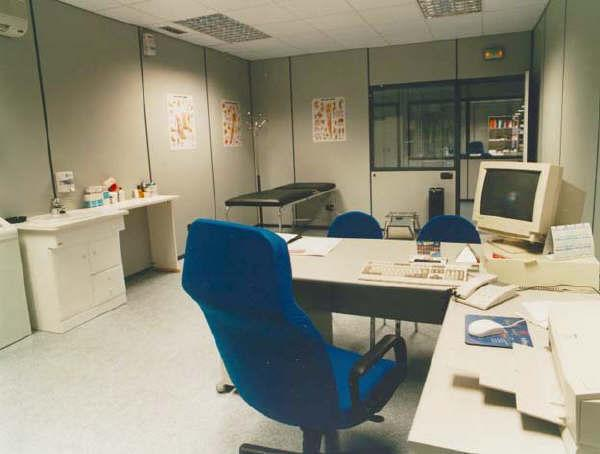Bote de Basura: (423, 188, 450, 223)
Cama: (218, 156, 344, 237)
Ventana: (370, 87, 455, 172)
